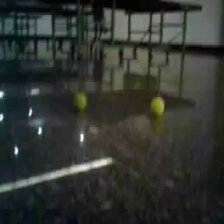tennis: (150, 95, 165, 119), (74, 92, 87, 111)
